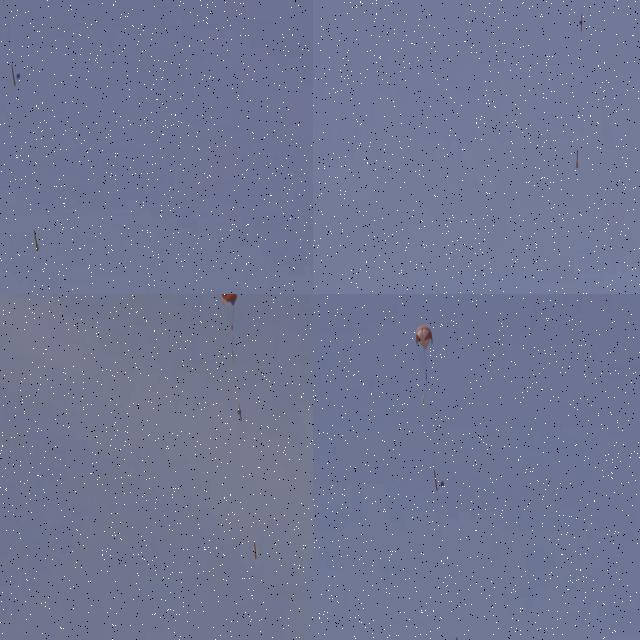Rocket: (34, 230, 39, 251), (253, 539, 258, 559), (576, 150, 578, 168)
